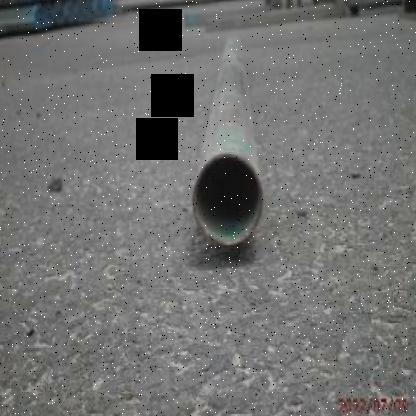pipe: (193, 150, 264, 247)
